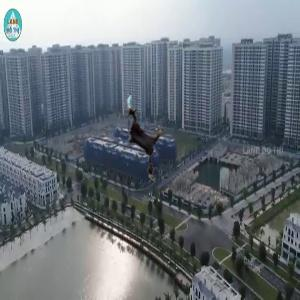drone: (99, 93, 191, 185)
